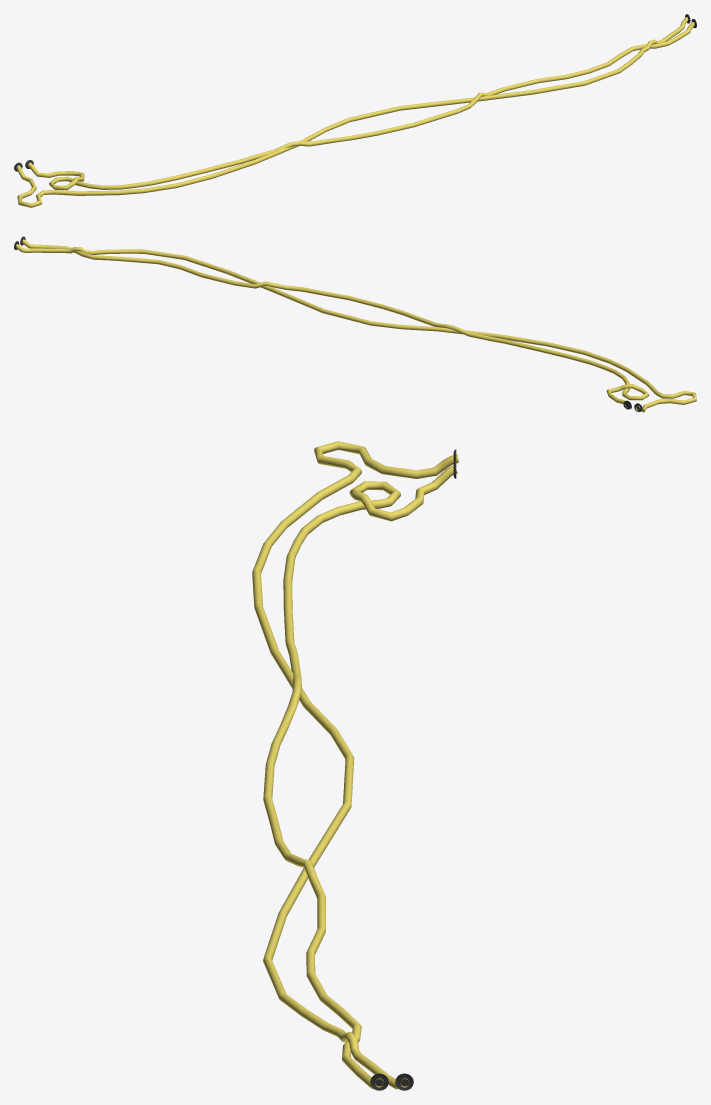
The model's file is ServerWires.fbx.
The picture shows the model from 3 angles, top to bottom: view 1: azimuth 30°, elevation 25°; view 2: azimuth 150°, elevation 25°; view 3: azimuth 270°, elevation 25°; orthographic projection. The views are drawn at different scales.
Visible parts, largest first — view 1: Tube-2, Tube-1; view 2: Tube-2, Tube-1; view 3: Tube-2, Tube-1.
Boxes of the visible parts, left/top/right/bottom form: Tube-2: left=16, top=17, right=688, bottom=207; Tube-1: left=28, top=21, right=694, bottom=190; Tube-2: left=16, top=244, right=696, bottom=412; Tube-1: left=22, top=239, right=649, bottom=409; Tube-2: left=252, top=441, right=458, bottom=1089; Tube-1: left=263, top=465, right=457, bottom=1089.
Bounding box in the file's own units: 1023 × 19.95 × 138.
